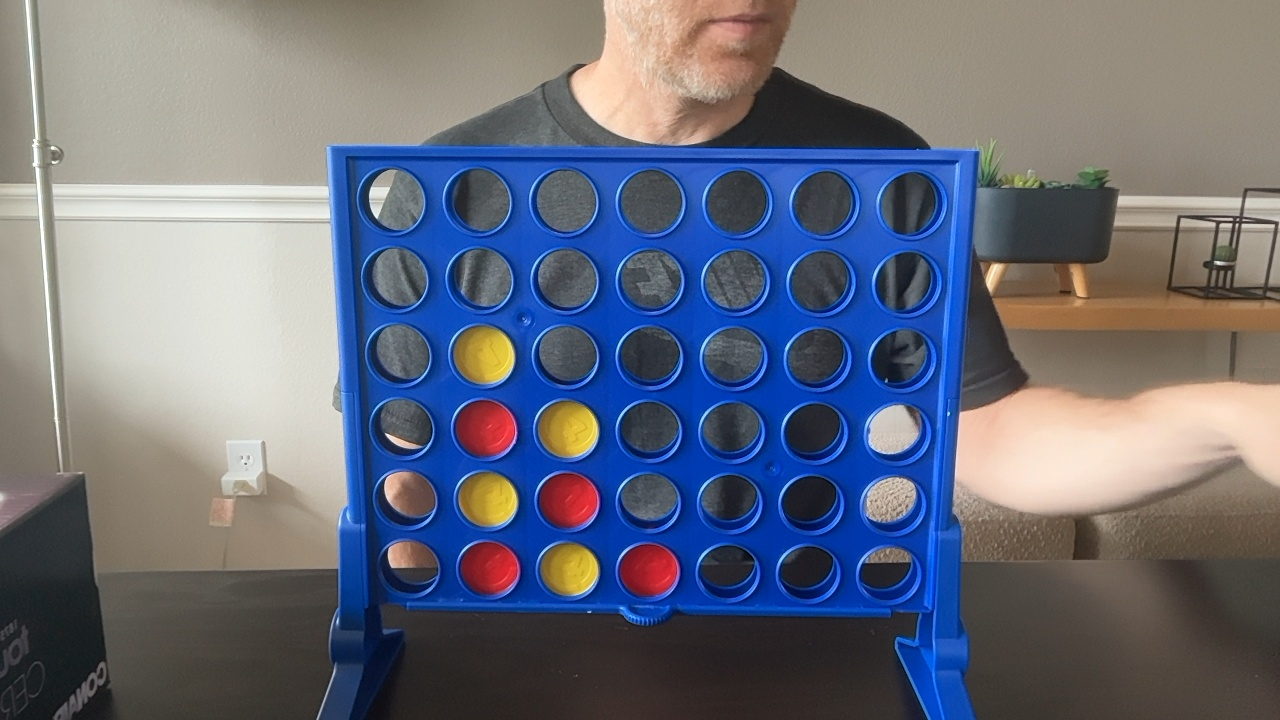red piece: (455, 400, 516, 458), (538, 473, 599, 529), (460, 541, 519, 596), (619, 544, 678, 598)
yellow piece: (453, 325, 515, 385), (538, 400, 598, 459), (458, 471, 518, 527), (539, 543, 599, 597)
